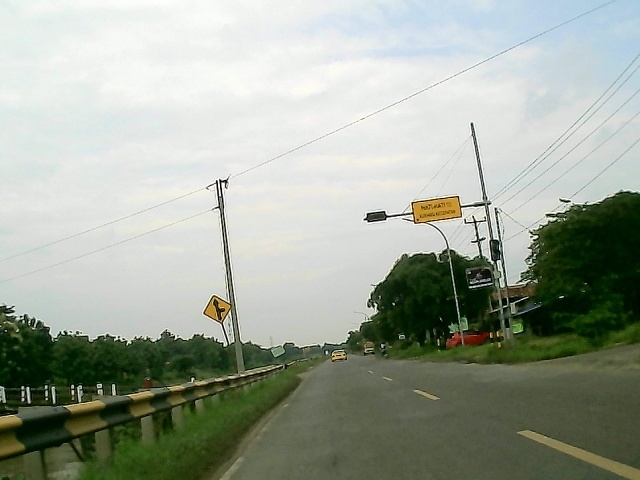Simpang kanan dengan prioritas: (203, 294, 234, 323)
